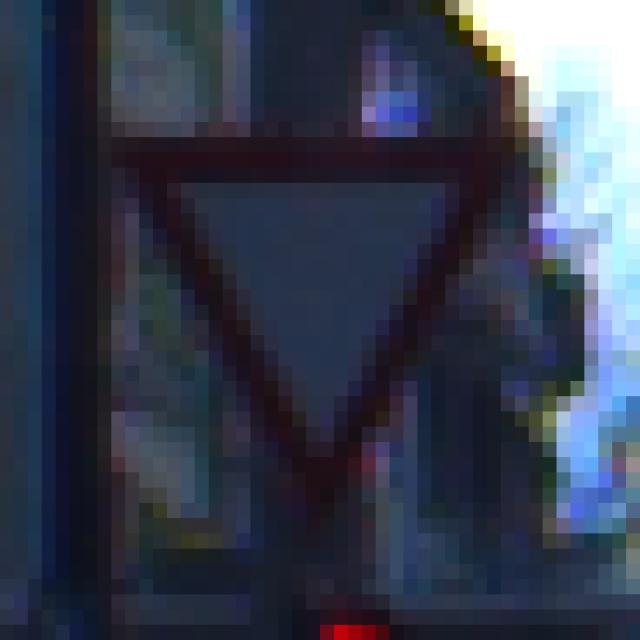Give Way: (71, 77, 572, 565)
